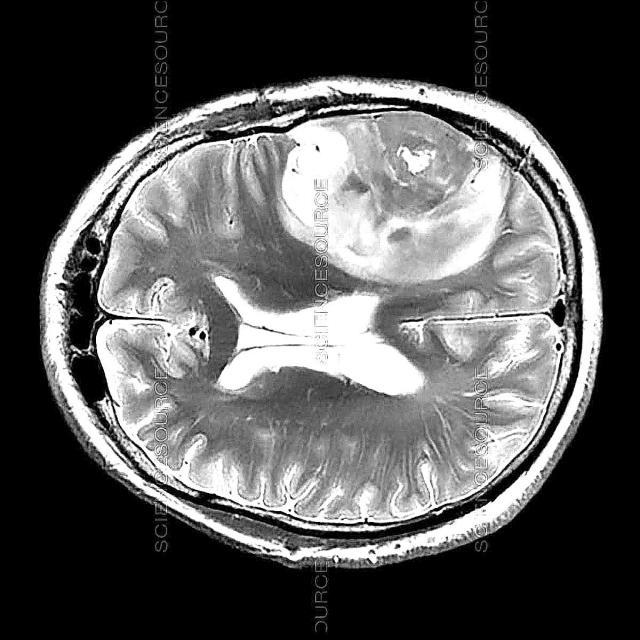tumor: (281, 108, 512, 285)
